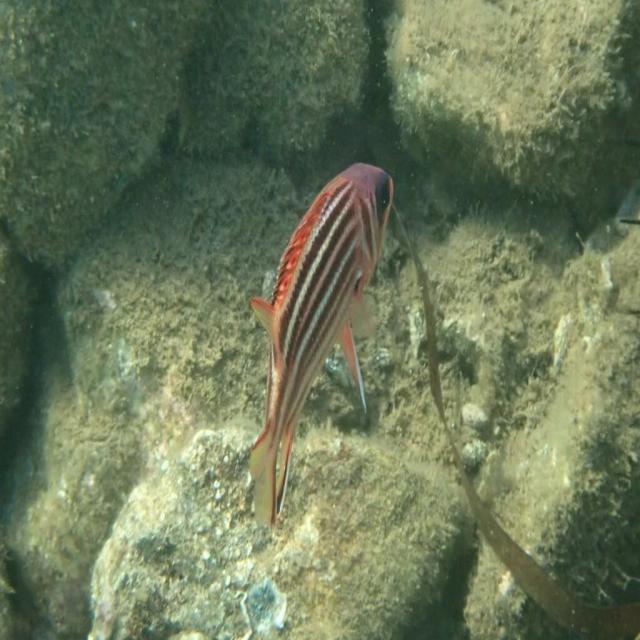Asker Baligi: (246, 159, 395, 533)
